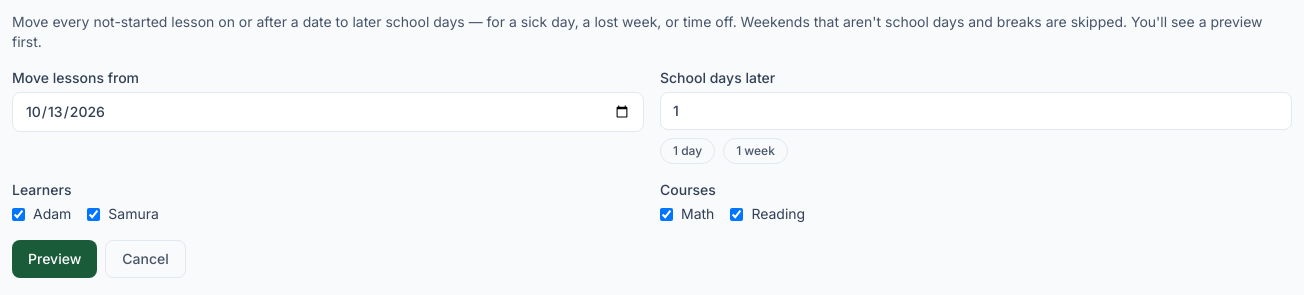
Scenario: ShiftLessonsPanel — preview › disables Preview when no learner is selected
Step 1. Click the checkbox labelled "Adam" → (18, 214), box [12,208,25,220]
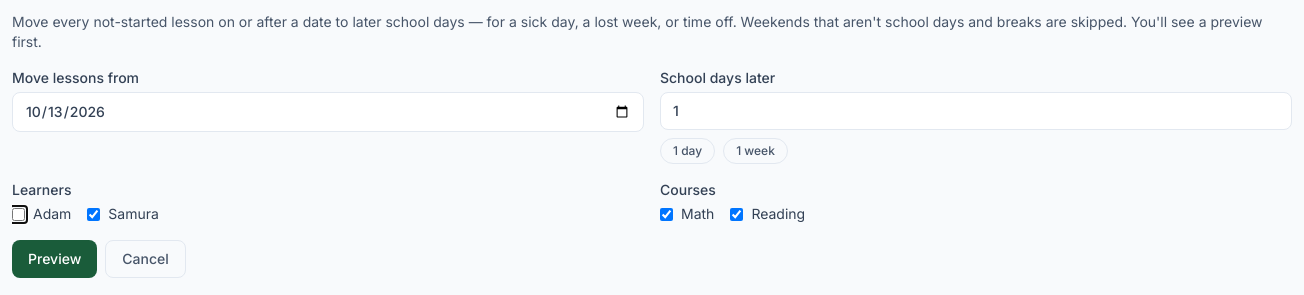
Step 2. Click the checkbox labelled "Samura" → (94, 214), box [87,208,100,220]
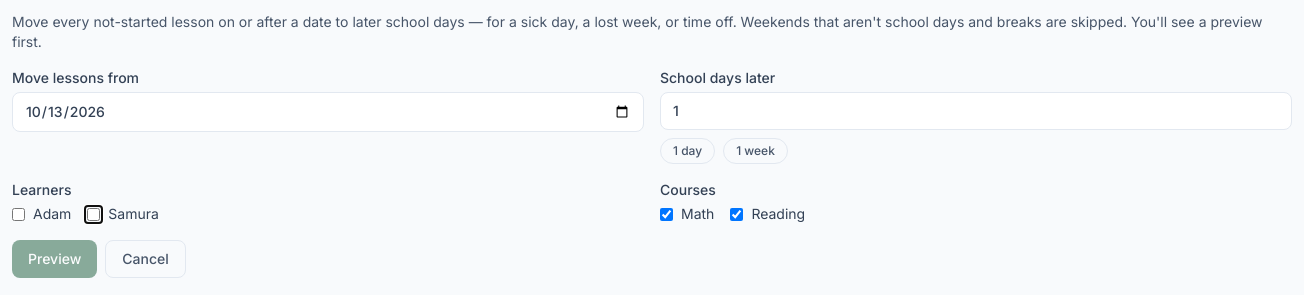
Now the button "Preview" is disabled, box [12,240,97,278]
